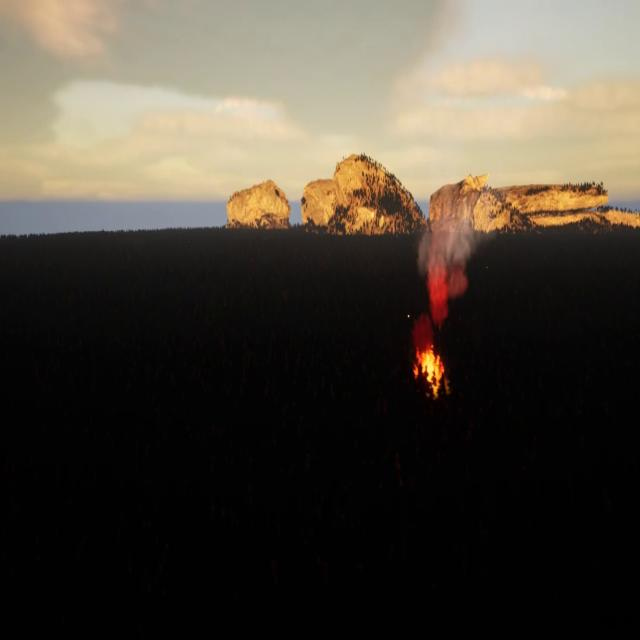fire: (409, 338, 449, 396)
smoke: (419, 202, 477, 325)
